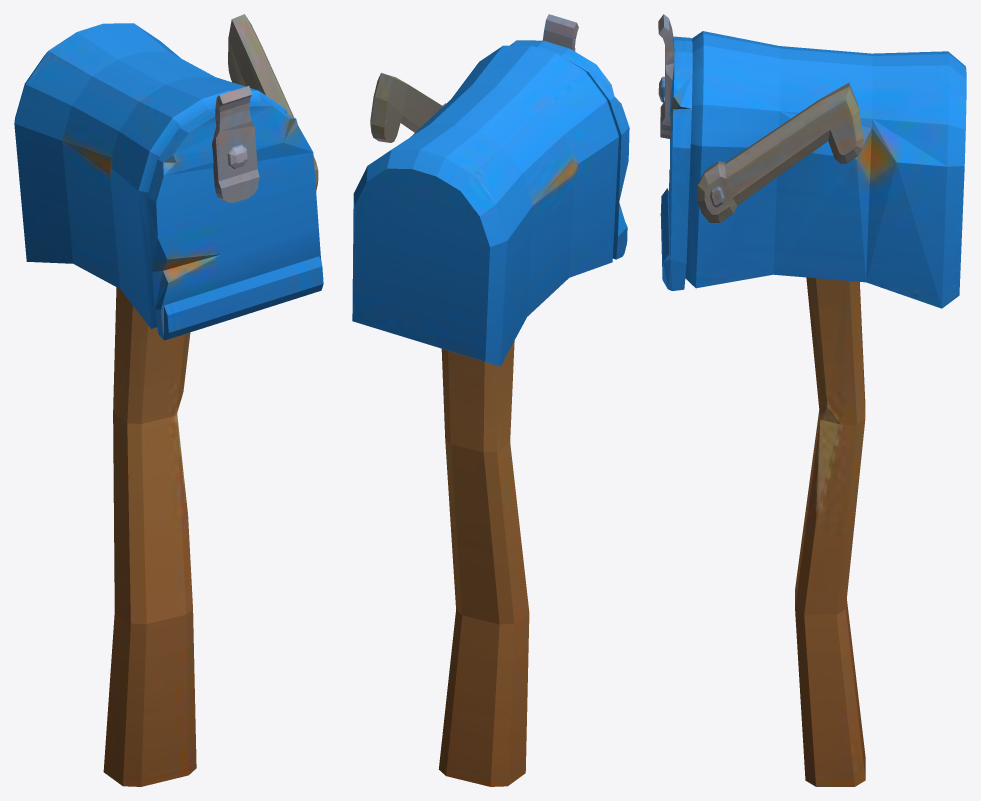
Rendered from mailbox_blue_flag.glb.
3 views of the same model, side by side, from view 1: azimuth 30°, elevation 25°; view 2: azimuth 150°, elevation 25°; view 3: azimuth 270°, elevation 25° (orthographic). The views are drawn at different scales.
Parts seen in each view (by area): view 1: mailbox_blue_flag; view 2: mailbox_blue_flag; view 3: mailbox_blue_flag.
Part boxes in pixels (bbox=[...]): mailbox_blue_flag: bbox=[14, 14, 323, 786]; mailbox_blue_flag: bbox=[352, 14, 629, 786]; mailbox_blue_flag: bbox=[658, 14, 966, 786].
Bounding box in the file's own units: 0.36 × 1.34 × 0.5.
Materials: 1 (1 with a texture image).
